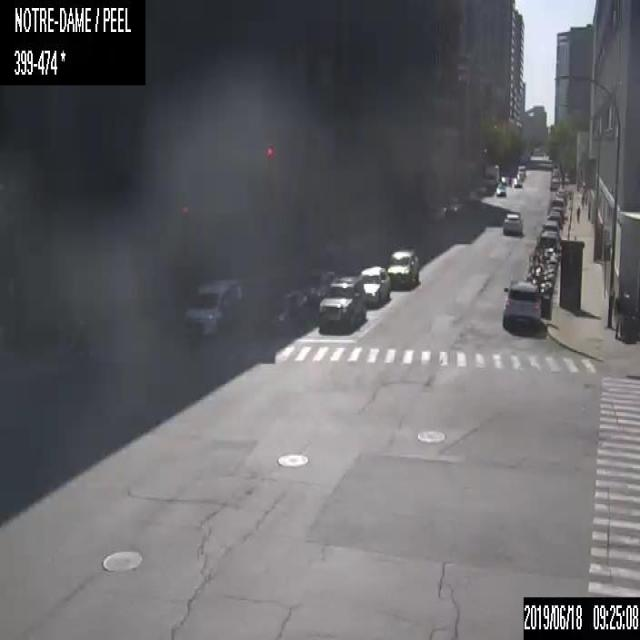pedestrian: (614, 288, 626, 339), (575, 204, 580, 224)
vehicle: (182, 275, 246, 336), (316, 275, 366, 330), (260, 286, 308, 331), (502, 281, 541, 329), (385, 246, 419, 290), (357, 266, 390, 306), (304, 268, 336, 304), (441, 190, 464, 214), (524, 272, 554, 288), (502, 211, 524, 232), (528, 260, 556, 276), (530, 250, 557, 266), (538, 231, 558, 252), (483, 163, 499, 184), (543, 219, 559, 238), (533, 282, 552, 297), (549, 198, 565, 215), (476, 181, 494, 196), (546, 210, 562, 226), (555, 189, 567, 201), (516, 164, 526, 177), (496, 184, 506, 196), (512, 176, 522, 187)
